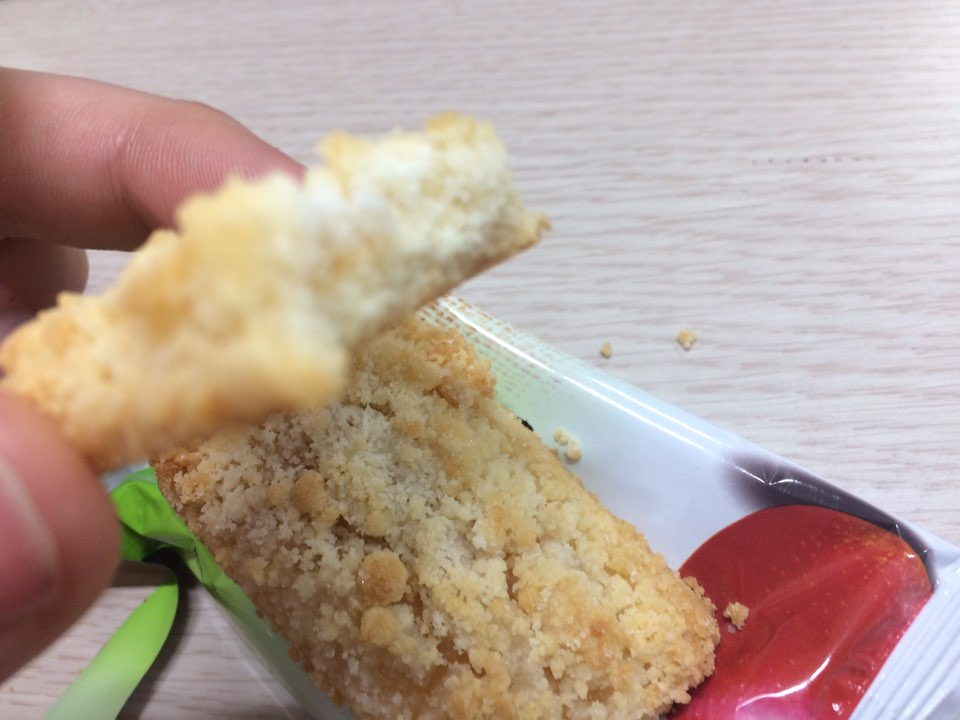slice of bread: (153, 304, 722, 720)
